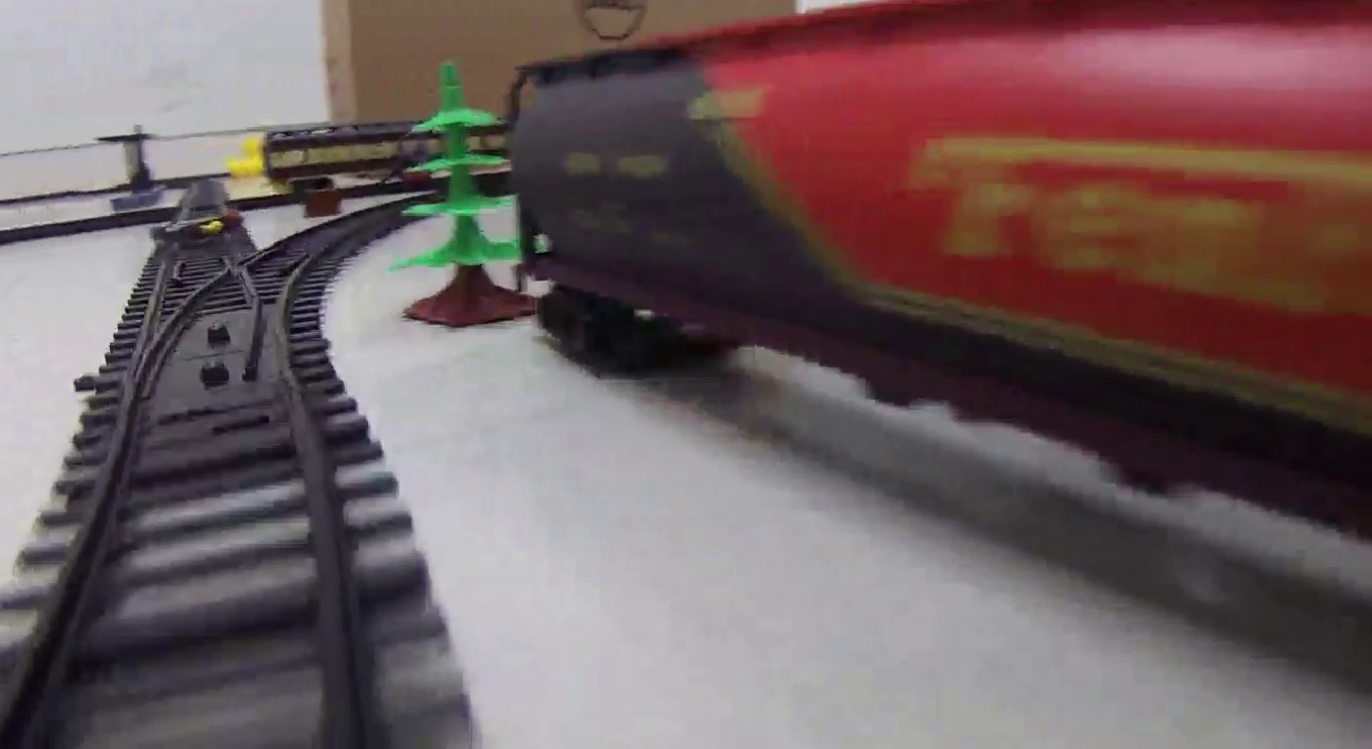tree: (387, 59, 510, 326)
